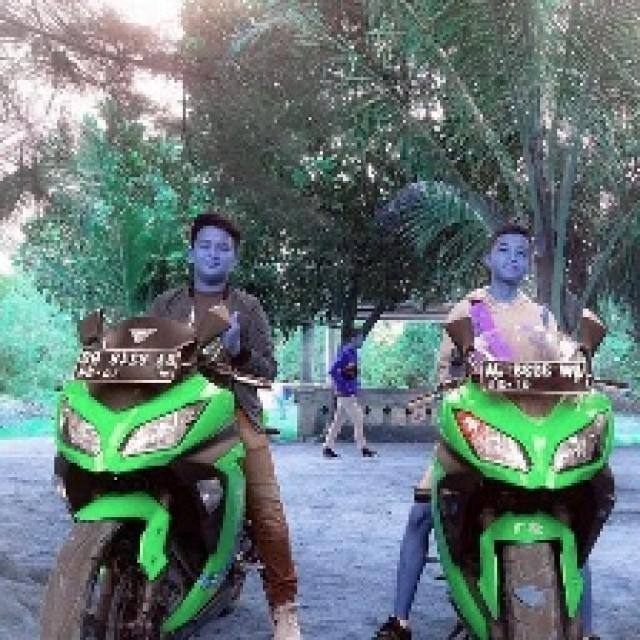bike: (47, 320, 253, 640), (428, 343, 616, 639)
